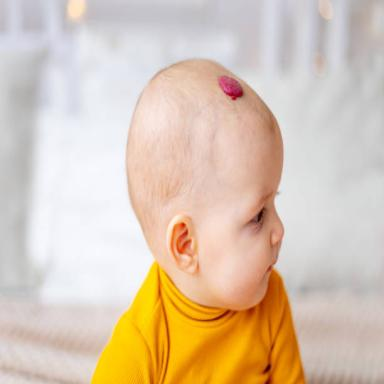Hemangiome: (218, 75, 243, 100)
